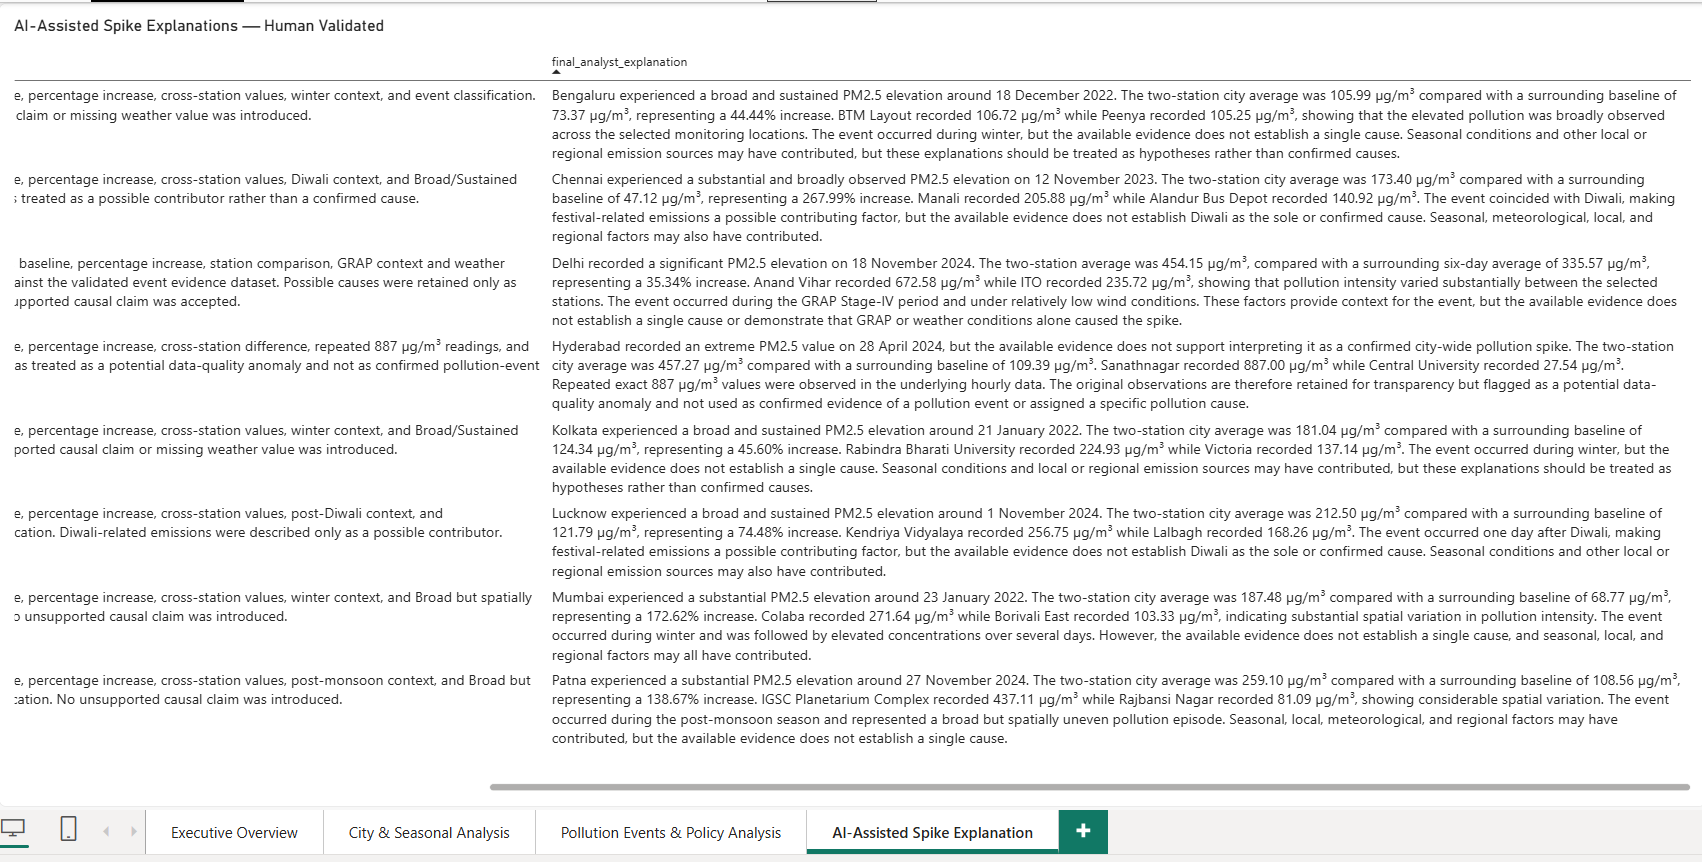

This screenshot's page, from the dashboard's own definition file:
{"tool":"powerbi","page":{"name":"AI-Assisted Spike Explanation","canvas":[1920,1080],"ordinal":3},"visuals":[{"type":"tableEx","title":"AI-Assisted Spike Explanations — Human Validated","fields":{"Values":["ai_human_validation_2022_2024.city","ai_human_validation_2022_2024.extreme_date","ai_human_validation_2022_2024.human_validation_status","ai_human_validation_2022_2024.ai_draft_status","ai_human_validation_2022_2024.validation_notes","ai_human_validation_2022_2024.final_analyst_explanation"]},"box":[0,0,1920.4,903.6],"z":0}]}

Visuals, with their boxes on the page's 1920x1080 design canvas (x1, y1, x2, y2). These are canvas units, not pixel positions in the 1702x862 screenshot, which may show the page scaled, cropped or inside an application window:
"AI-Assisted Spike Explanations — Human Validated" tableEx: (0, 0, 1920, 904)
